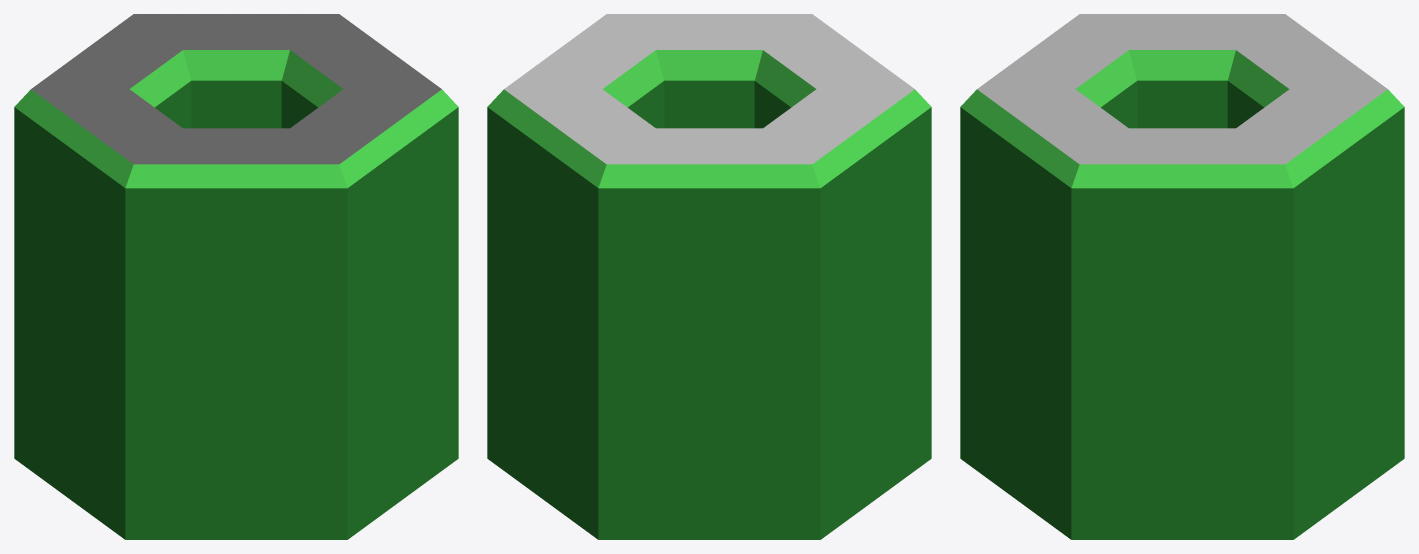
The picture shows the model from 3 angles, left to right: view 1: azimuth 30°, elevation 25°; view 2: azimuth 150°, elevation 25°; view 3: azimuth 270°, elevation 25°; orthographic projection.
Visible parts, largest first — view 1: Joint_0_Object_0, Joint_0_Object_1; view 2: Joint_0_Object_0, Joint_0_Object_1; view 3: Joint_0_Object_0, Joint_0_Object_1.
Boxes of the visible parts, x1,y1,x2,y2 form: Joint_0_Object_0: (14, 50, 458, 539); Joint_0_Object_1: (31, 14, 441, 164); Joint_0_Object_0: (487, 50, 931, 539); Joint_0_Object_1: (504, 14, 914, 164); Joint_0_Object_0: (960, 50, 1404, 539); Joint_0_Object_1: (977, 14, 1387, 164).
Bounding box in the file's own units: 133 × 140 × 153.
